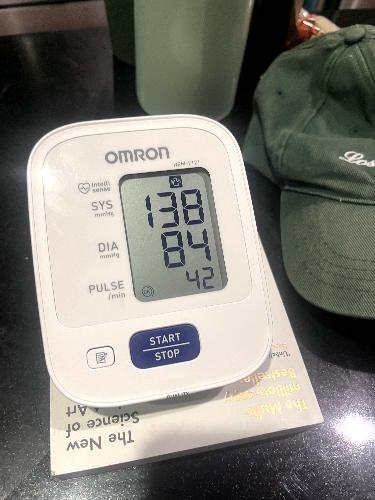bpm: (116, 161, 230, 305)
